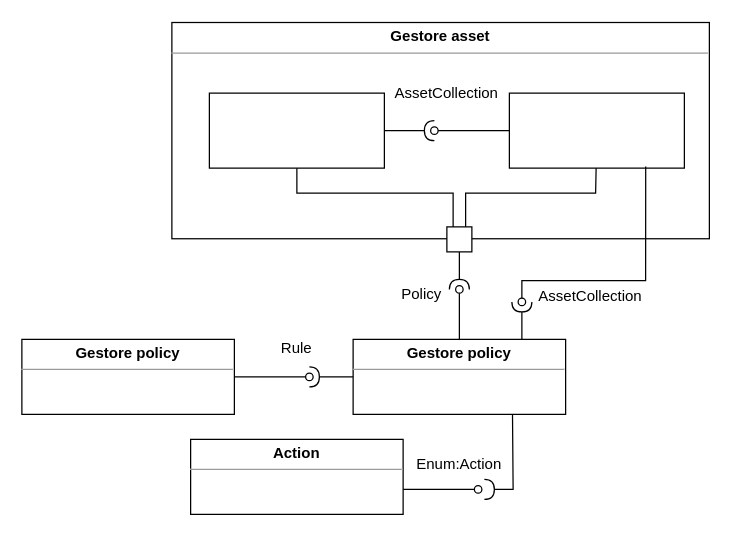
The diagram is 731 pixels wide and 536 high, and some of its shapes have lost their labels. Here are the shapes that lost their labels. From the top down, the centre of each, then its label:
At point 296,130: "Gestore gerarchia".
At point 596,130: "Asset".
